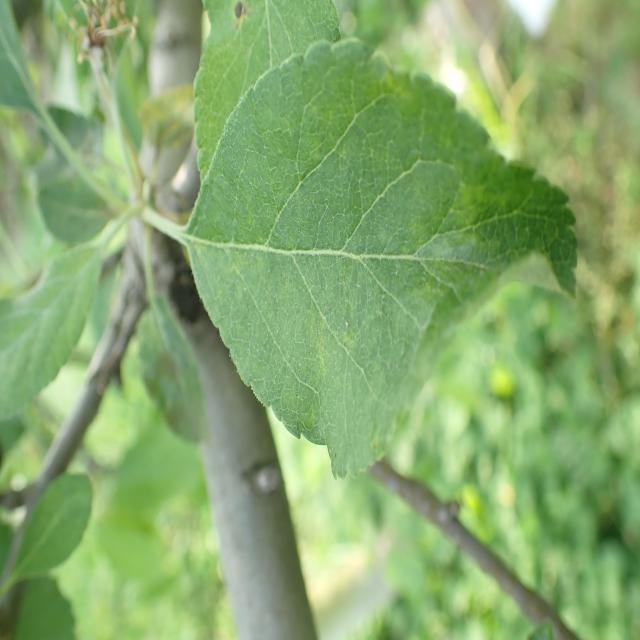scab: (261, 110, 577, 427)
